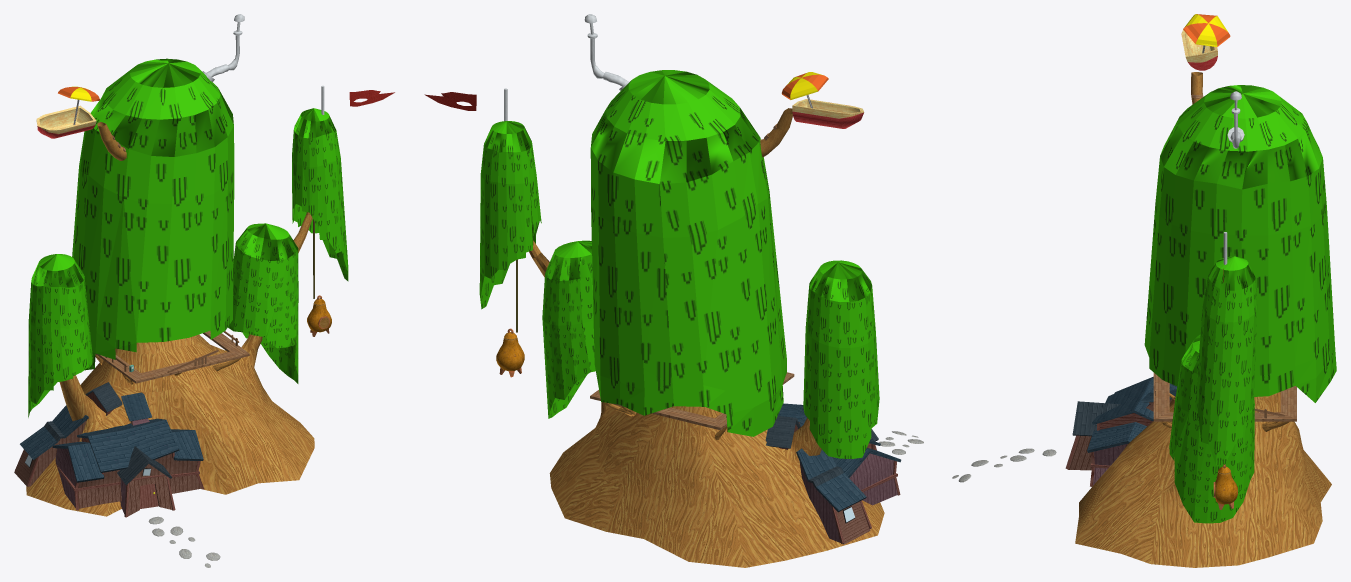
Rendered from CasaArbol_Ooo.obj.
The picture shows the model from 3 angles, left to right: view 1: azimuth 30°, elevation 25°; view 2: azimuth 150°, elevation 25°; view 3: azimuth 270°, elevation 25°; orthographic projection. The views are drawn at different scales.
Parts seen in each view (by area): view 1: Leaves, pCylinder5, pPlane3, Leaves2, Leaves1, Leaves3, pCube5, pCube6, pCylinder17, pCube27, pCube26, Lantern (+3 smaller); view 2: Leaves, pCylinder5, Leaves1, Leaves3, Leaves2, pCube5, pPlane3, pCylinder17, pCube6, Lantern, polySurface1, pCube26 (+2 smaller); view 3: Leaves, pCylinder5, Leaves3, Leaves2, pPlane3, pCube6, polySurface1, pCylinder17, Lantern, Chimny1.
Boxes of the visible parts, left/top/right/bottom form: Leaves: left=72, top=58, right=234, bottom=370; pCylinder5: left=26, top=334, right=314, bottom=516; pPlane3: left=52, top=418, right=203, bottom=517; Leaves2: left=228, top=223, right=298, bottom=383; Leaves1: left=28, top=254, right=92, bottom=417; Leaves3: left=292, top=108, right=348, bottom=281; pCube5: left=14, top=405, right=88, bottom=486; pCube6: left=96, top=331, right=249, bottom=383; pCylinder17: left=36, top=105, right=96, bottom=138; pCube27: left=121, top=392, right=151, bottom=425; pCube26: left=85, top=382, right=122, bottom=415; Lantern: left=307, top=295, right=331, bottom=336; Leaves: left=590, top=70, right=786, bottom=436; pCylinder5: left=549, top=402, right=884, bottom=567; Leaves1: left=803, top=260, right=879, bottom=458; Leaves3: left=479, top=121, right=541, bottom=309; Leaves2: left=542, top=240, right=595, bottom=418; pCube5: left=796, top=448, right=870, bottom=544; pPlane3: left=782, top=403, right=901, bottom=505; pCylinder17: left=792, top=99, right=864, bottom=128; pCube6: left=590, top=372, right=794, bottom=430; Lantern: left=496, top=328, right=524, bottom=377; polySurface1: left=781, top=72, right=828, bottom=108; pCube26: left=765, top=416, right=800, bottom=449; Leaves: left=1144, top=85, right=1336, bottom=402; pCylinder5: left=1075, top=392, right=1331, bottom=567; Leaves3: left=1195, top=256, right=1257, bottom=464; Leaves2: left=1169, top=334, right=1254, bottom=523; pPlane3: left=1067, top=376, right=1176, bottom=485; pCube6: left=1153, top=372, right=1296, bottom=421; polySurface1: left=1183, top=14, right=1230, bottom=53; pCylinder17: left=1181, top=30, right=1217, bottom=70; Lantern: left=1213, top=464, right=1237, bottom=509; Chimny1: left=1227, top=91, right=1244, bottom=148.
Bounding box in the file's own units: 20.27 × 21.37 × 15.8.
Materials: 21 (19 with a texture image).
